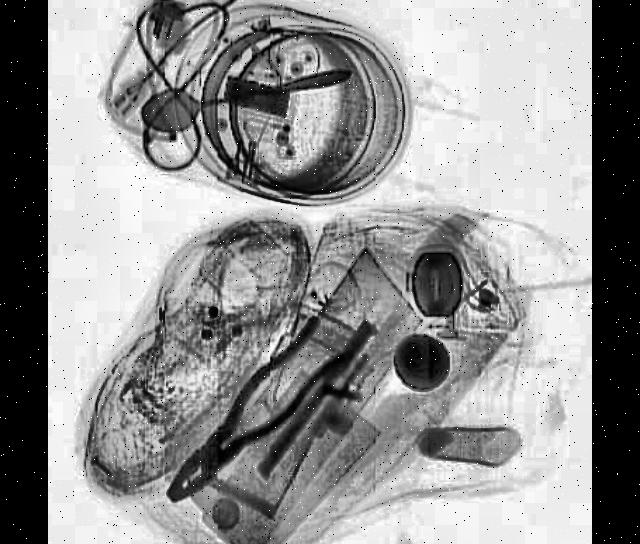Pliers: (156, 308, 358, 524)
